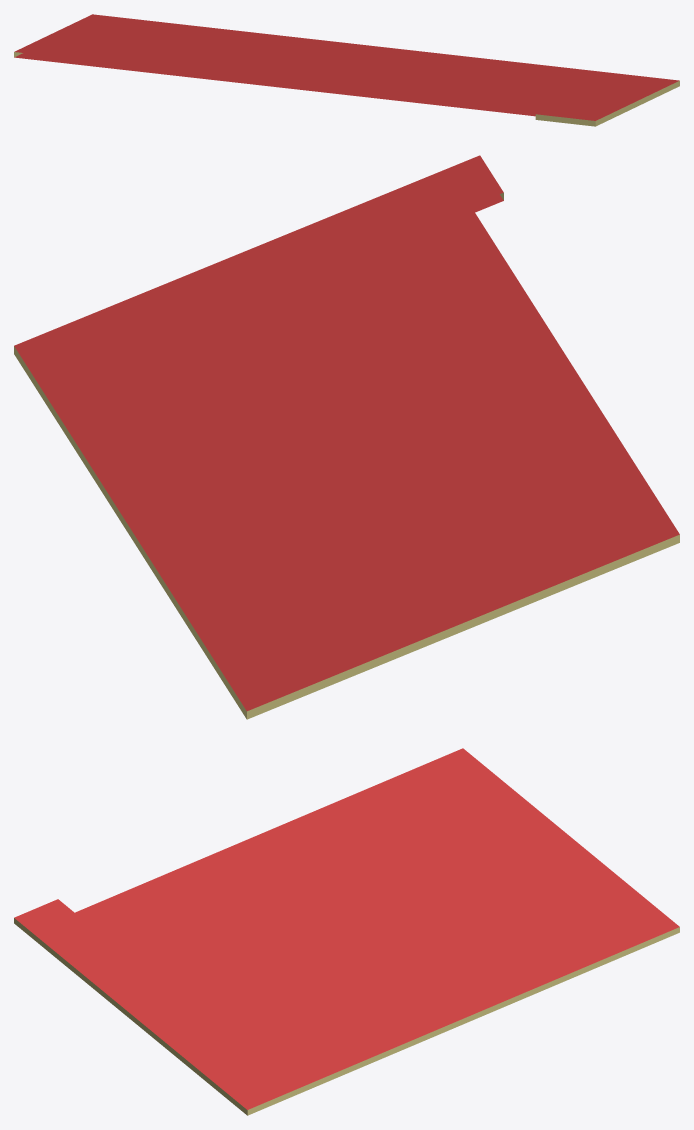
3 renders of one model, top to bottom at view 1: azimuth 30°, elevation 25°; view 2: azimuth 150°, elevation 25°; view 3: azimuth 270°, elevation 25°, orthographic. The views are drawn at different scales.
Size of the model in its own units: 10.4 by 10.66 by 1.76.
